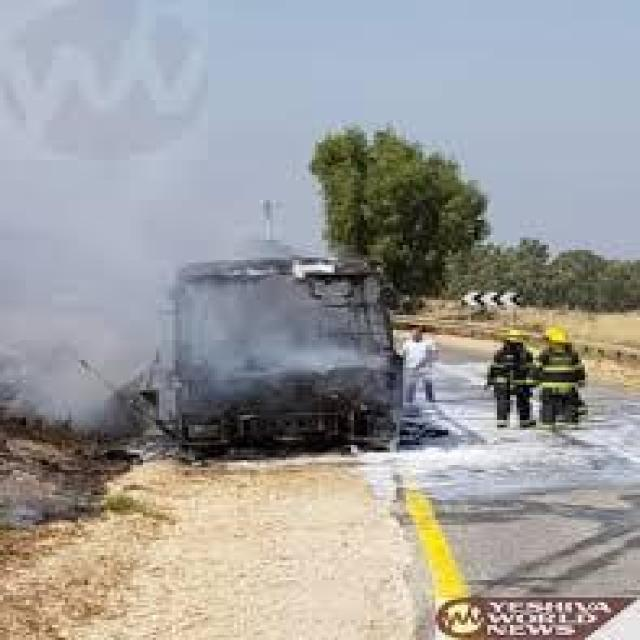smoke: (20, 35, 392, 408)
